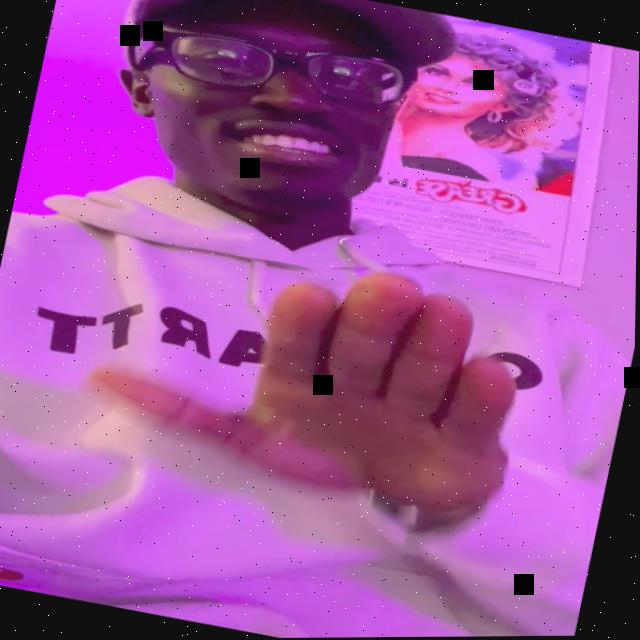Paper: (81, 218, 537, 528)
